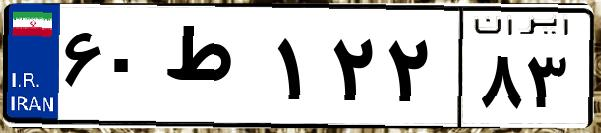0: (110, 28, 158, 98)
1: (270, 28, 330, 110)
2: (385, 28, 445, 110), (330, 28, 385, 110)
3: (525, 38, 570, 115)
6: (57, 26, 110, 100)
8: (475, 38, 525, 113)
ط: (158, 20, 270, 120)
